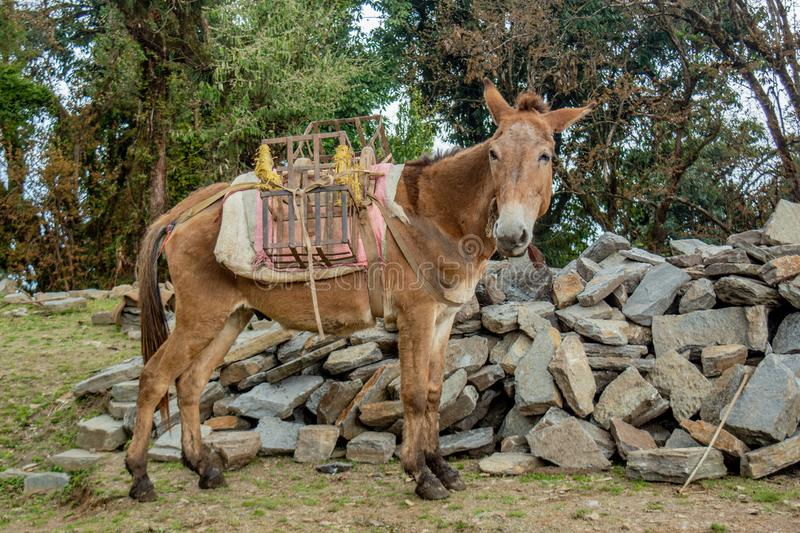equine: (109, 72, 596, 517)
